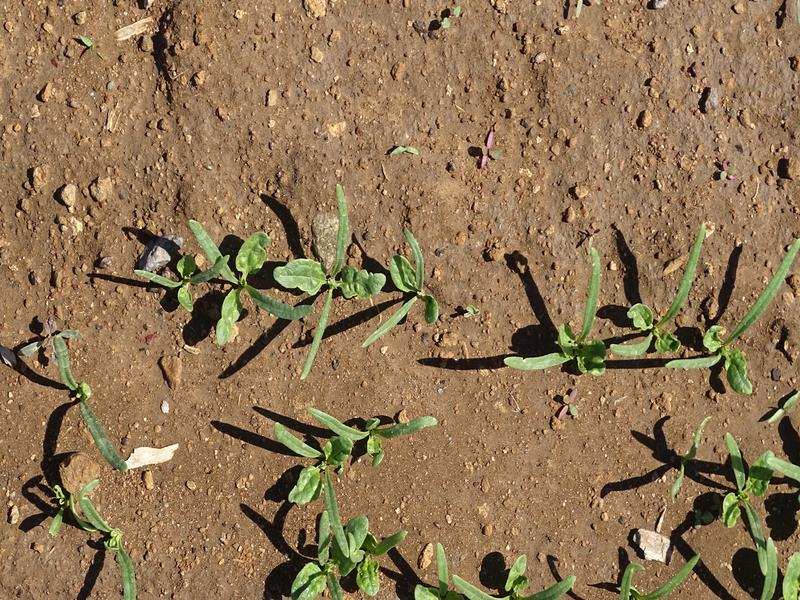Espinaca: (268, 399, 575, 600), (150, 201, 447, 362), (529, 220, 778, 389), (45, 332, 142, 466), (721, 433, 800, 589), (60, 480, 155, 594), (611, 553, 694, 600)
